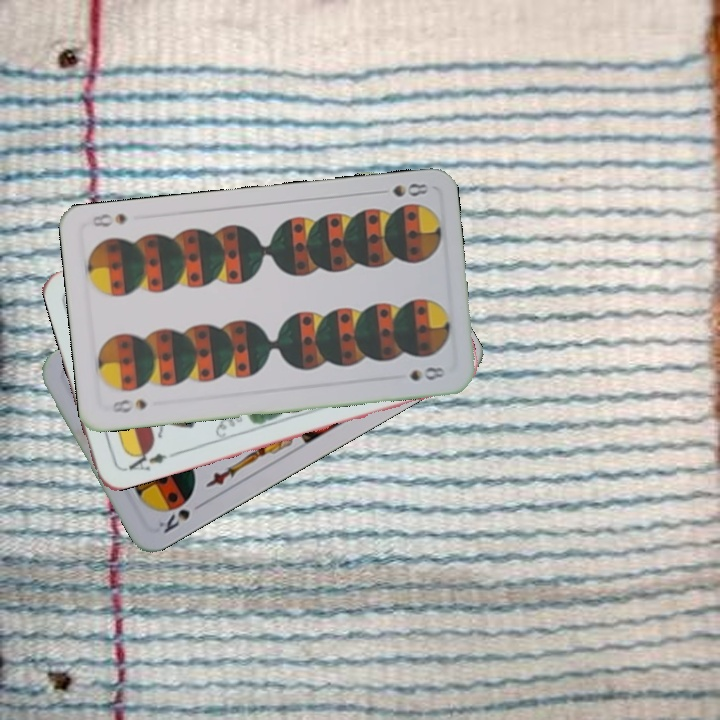EA: (119, 444, 169, 474)
S8: (372, 179, 430, 200), (108, 395, 150, 415)
SK: (154, 497, 208, 536)
